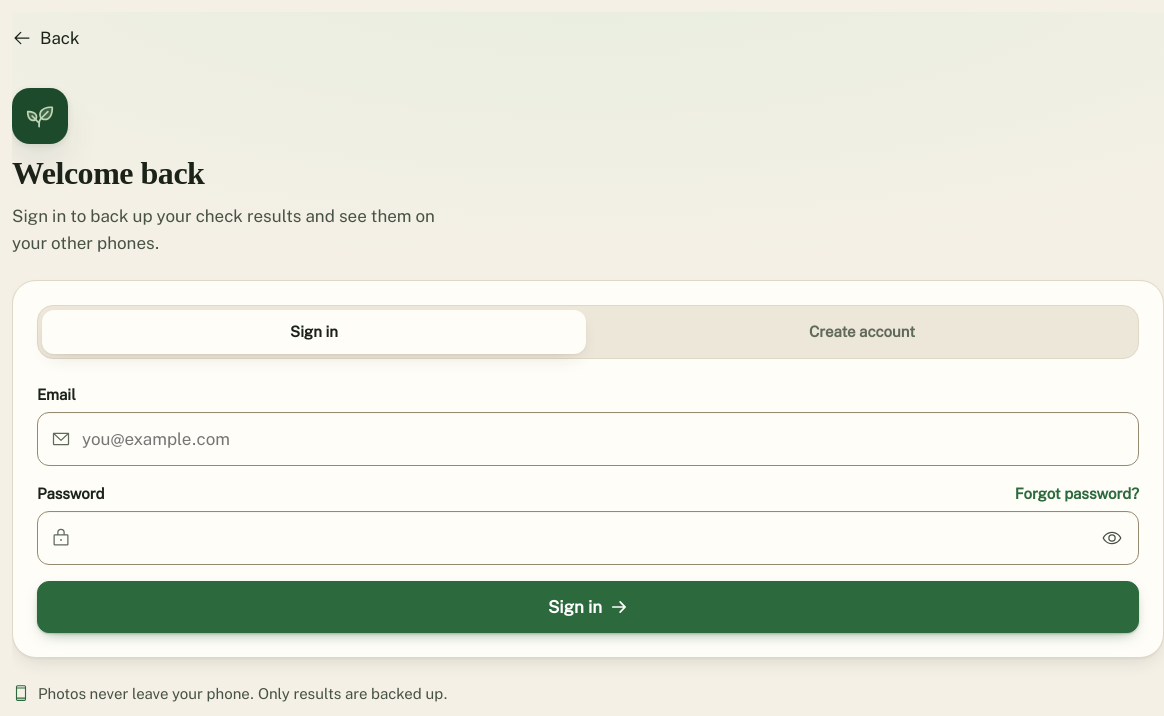
forgot password › never reveals whether the email has an account
Click the button "Forgot password?" at (1077, 494), box left=1015, top=482, right=1139, bottom=505
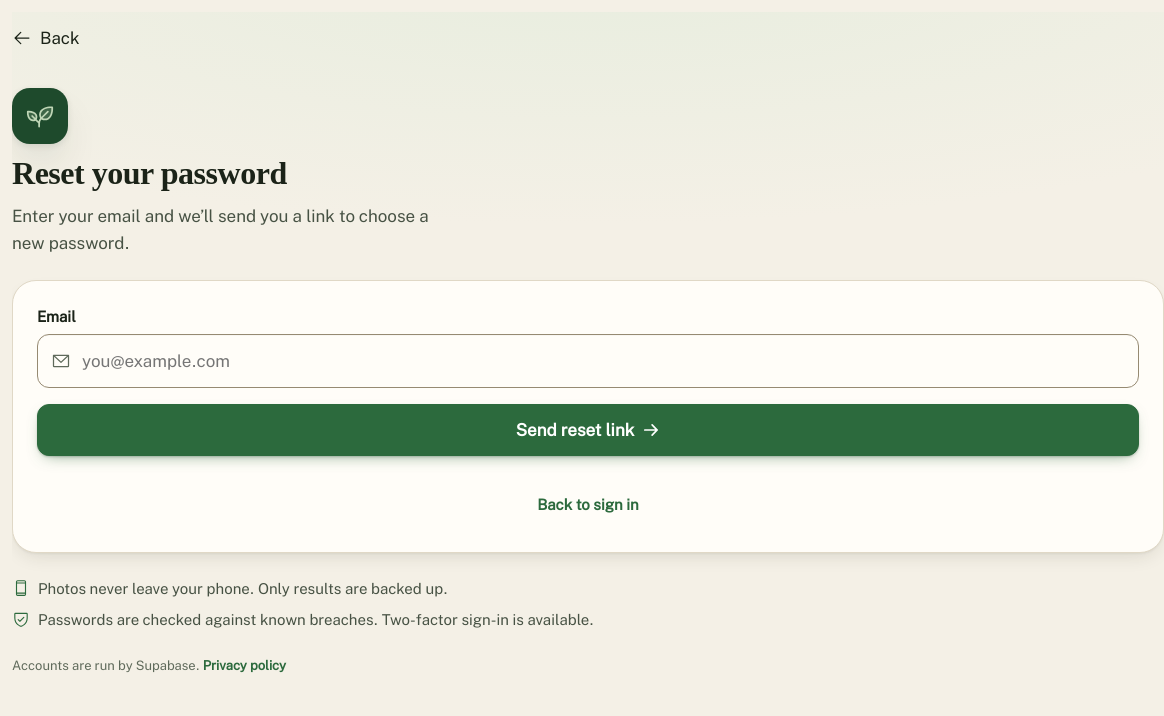
Type "nobody@example.com" into the field labelled "Email" at (588, 361), box left=37, top=334, right=1139, bottom=388
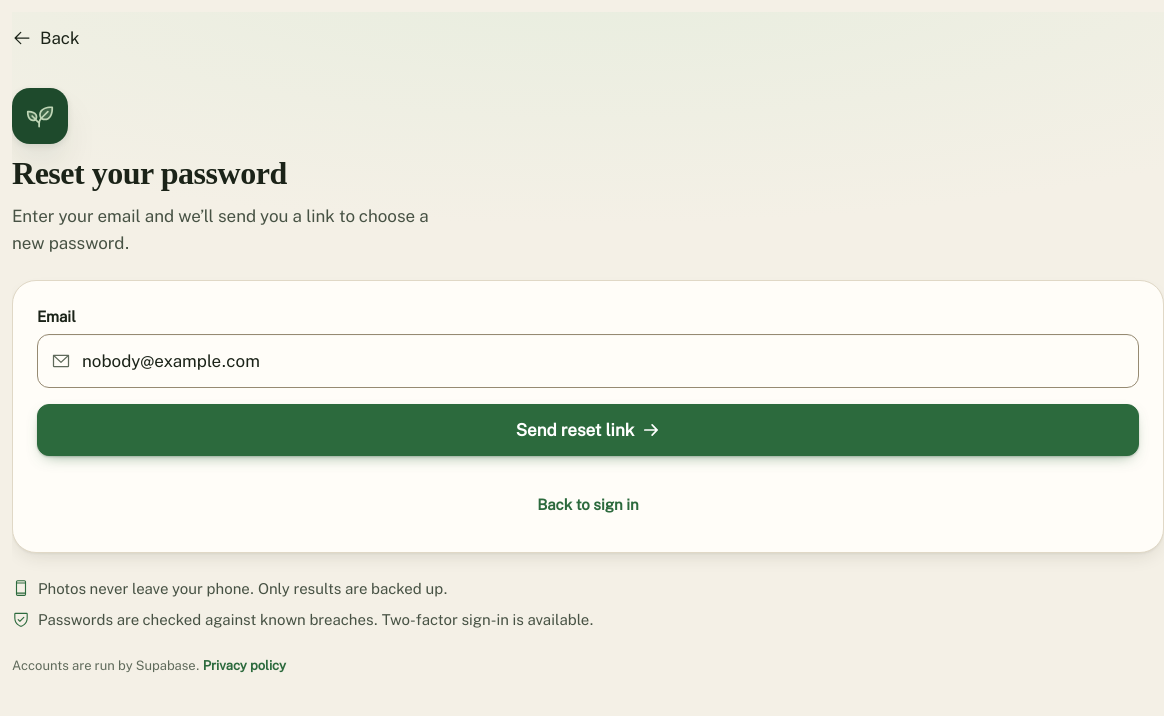
Click the button "Send reset link" at (588, 430), box left=37, top=404, right=1139, bottom=456
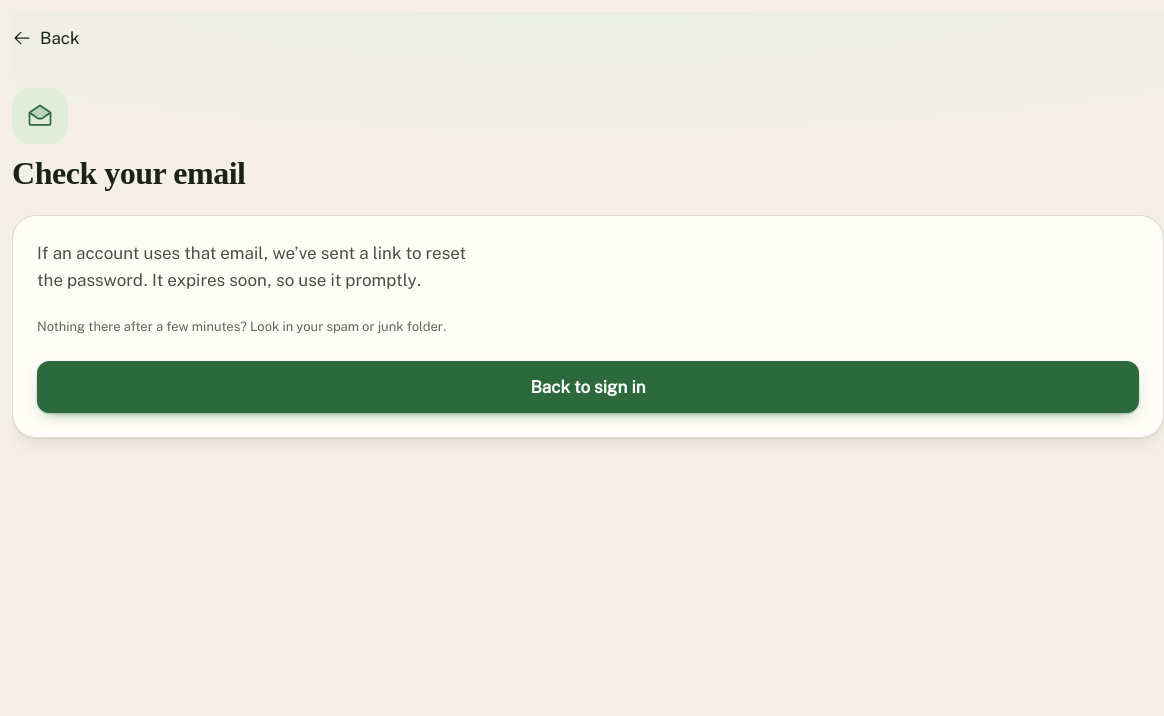
Now the text "If an account uses that email" is shown, box left=37, top=243, right=466, bottom=290
